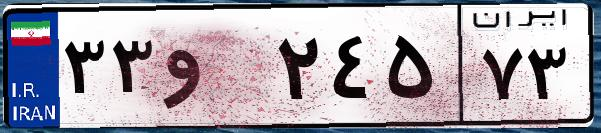2: (270, 28, 330, 110)
3: (57, 26, 110, 100), (525, 38, 570, 115), (110, 28, 158, 98)
4: (330, 28, 385, 110)
5: (385, 28, 445, 110)
7: (475, 38, 525, 113)
و: (158, 20, 270, 120)
